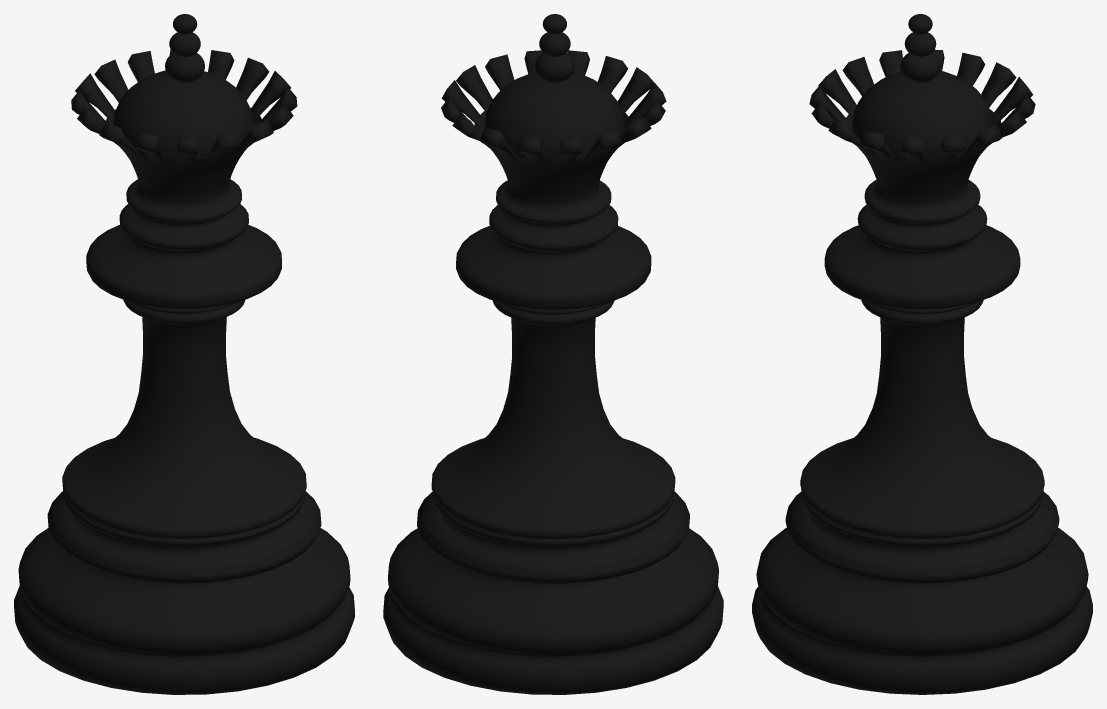
File: Queen.fbx
3 views of the same model, side by side, from view 1: azimuth 30°, elevation 25°; view 2: azimuth 150°, elevation 25°; view 3: azimuth 270°, elevation 25° (orthographic).
Visible parts, largest first — view 1: Q Body; view 2: Q Body; view 3: Q Body.
Boxes of the visible parts, left/top/right/bottom form: Q Body: left=14, top=14, right=354, bottom=694; Q Body: left=383, top=14, right=723, bottom=694; Q Body: left=752, top=14, right=1092, bottom=694.
Size of the model in its own units: 280 by 280 by 555.
